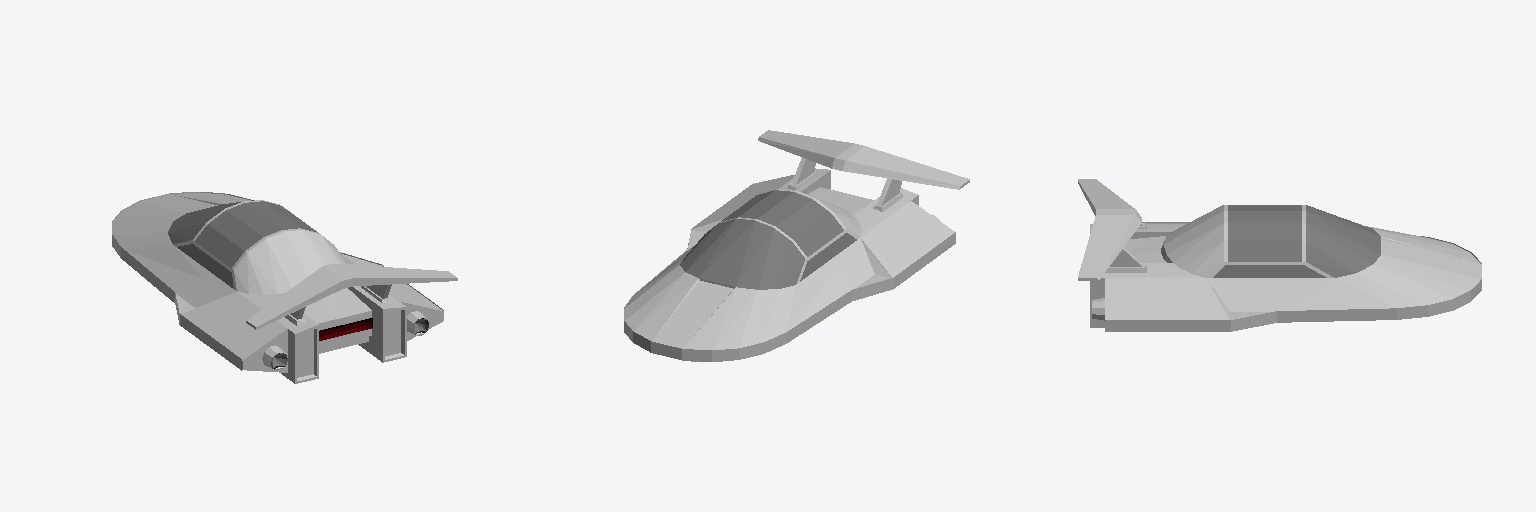
3 renders of one model, left to right at view 1: azimuth 30°, elevation 25°; view 2: azimuth 150°, elevation 25°; view 3: azimuth 270°, elevation 25°, orthographic.
Visible parts, largest first — view 1: common_car_a; view 2: common_car_a; view 3: common_car_a.
Part boxes in pixels (x1,y1,x2,y2): common_car_a: (112,192,457,383); common_car_a: (624,130,969,361); common_car_a: (1078,179,1481,331).
Bounding box in the file's own units: 1.9 × 0.8102 × 3.3.
Materials: 18 (2 with a texture image).